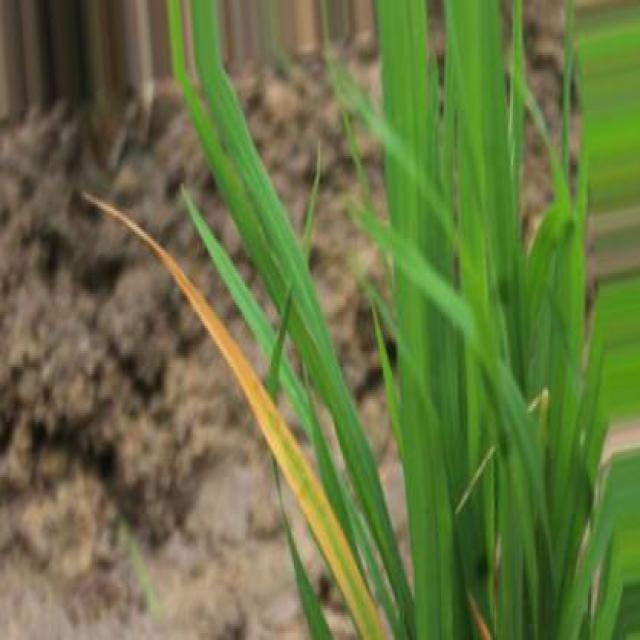Rice Tungro: (82, 194, 385, 638)
